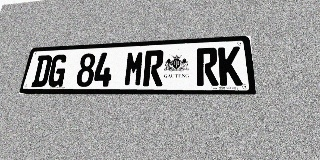4: (92, 52, 114, 87)
8: (75, 53, 97, 87)
D: (31, 55, 53, 87)
G: (46, 54, 69, 87)
K: (218, 46, 243, 86)
M: (123, 51, 145, 86)
R: (197, 47, 219, 86), (143, 50, 164, 86)
